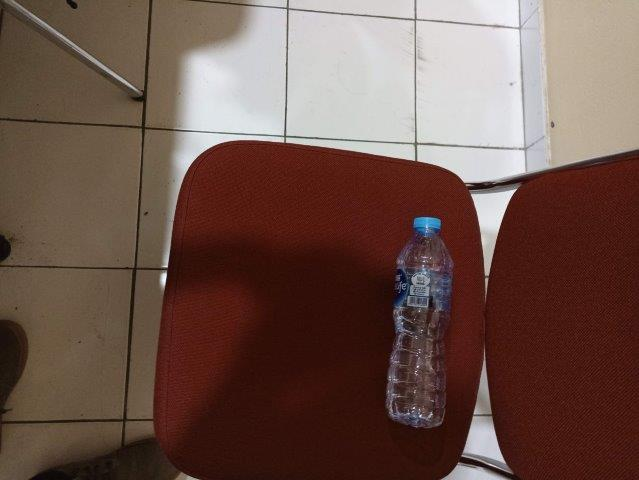botolplastik: (388, 216, 453, 428)
